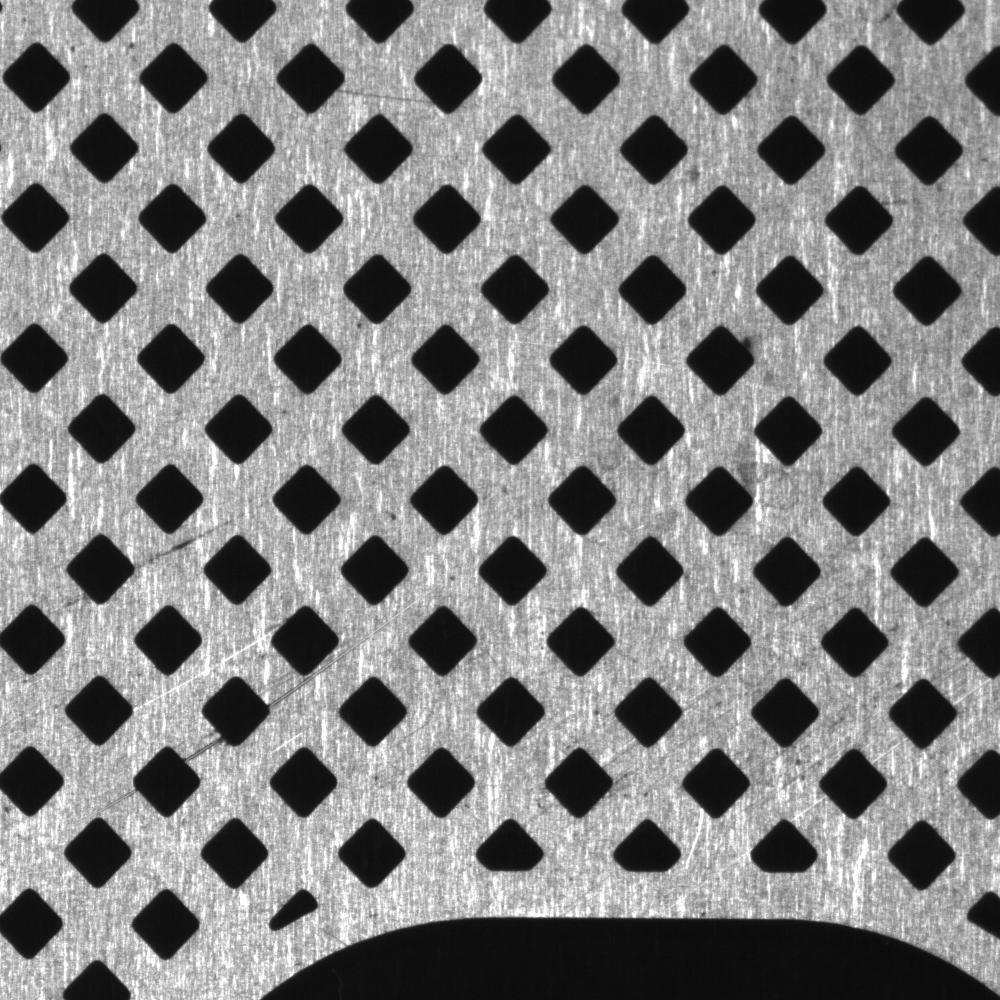Discolor: (736, 451, 809, 523)
Etching: (731, 315, 783, 363)
Scar: (128, 499, 262, 567), (742, 742, 838, 806), (345, 585, 428, 645), (754, 594, 847, 645), (263, 658, 345, 710), (678, 689, 749, 749), (340, 83, 436, 108), (178, 733, 226, 766), (91, 791, 135, 816)
